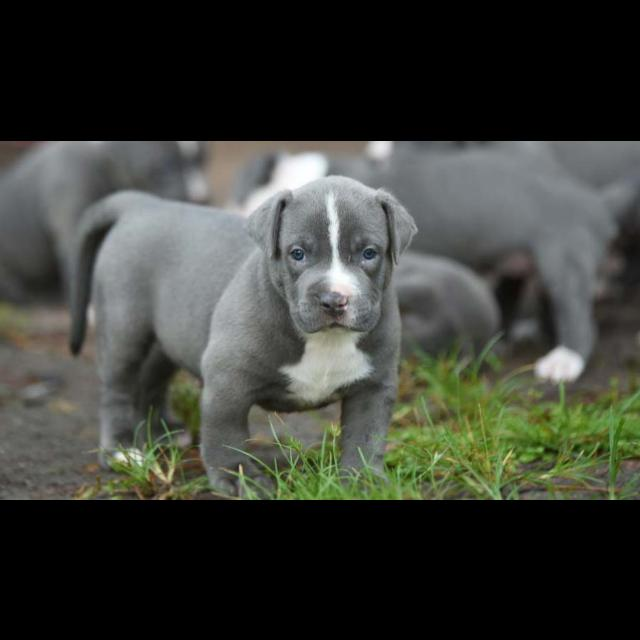am_pit_bull_terrier: (69, 174, 420, 499)
